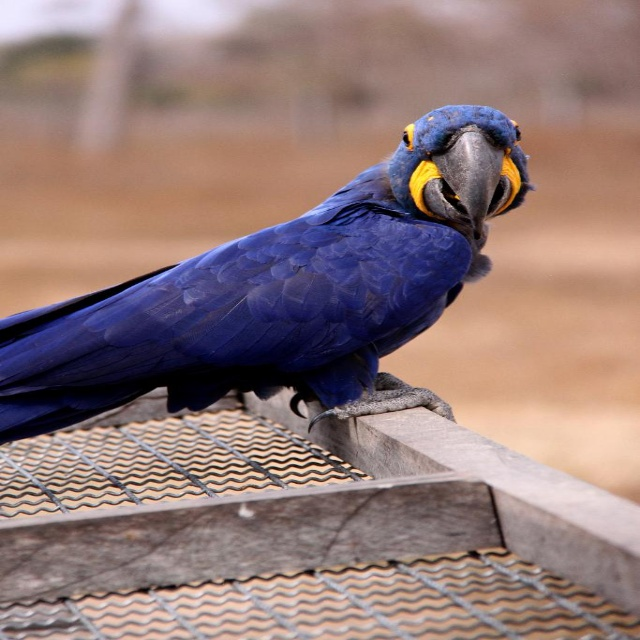Parrot: (0, 103, 533, 448)
